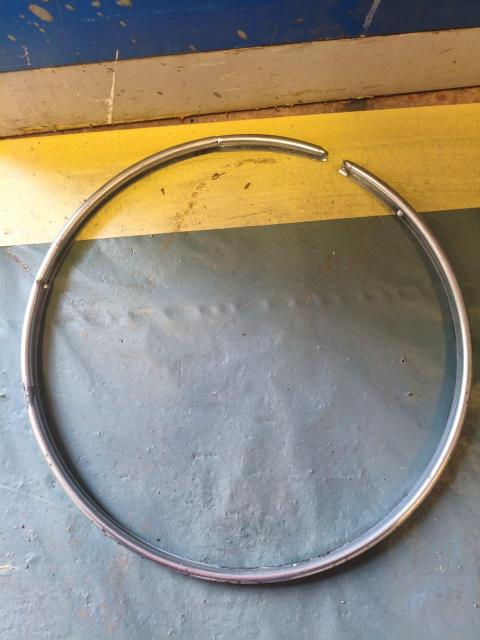Metal: (13, 135, 480, 583)
